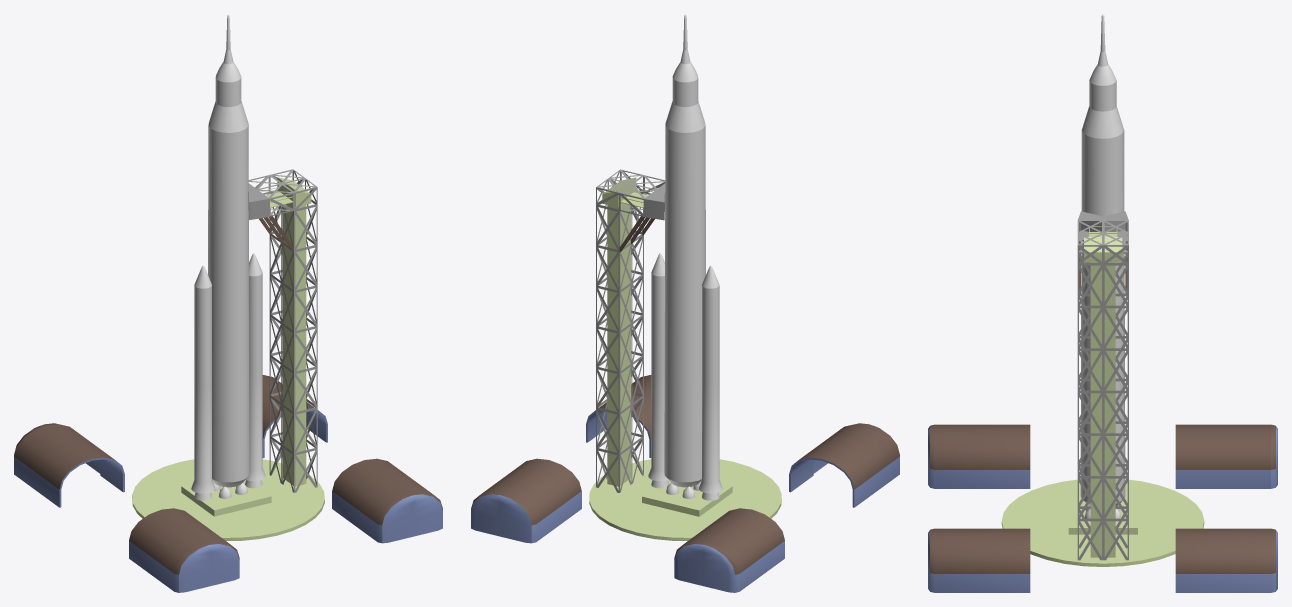
The model's file is Landing Pad.fbx.
3 renders of one model, left to right at view 1: azimuth 30°, elevation 25°; view 2: azimuth 150°, elevation 25°; view 3: azimuth 270°, elevation 25°, orthographic. The views are drawn at different scales.
Parts seen in each view (by area): view 1: Models.001; view 2: Models.001; view 3: Models.001.
Boxes of the visible parts, box(x1,y1,x2,y2) form: Models.001: box(14, 14, 442, 592); Models.001: box(471, 14, 899, 592); Models.001: box(928, 14, 1277, 592).
Bounding box in the file's own units: 2673 × 4629 × 2876.
